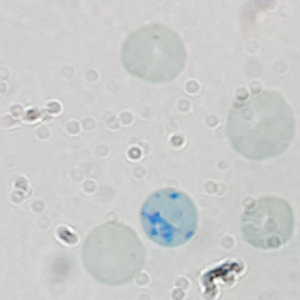aggregate reticulocyte: (138, 186, 201, 249)
erythrocyte: (224, 88, 299, 162), (237, 193, 297, 252)
punctate reticulocyte: (79, 220, 147, 288), (119, 23, 188, 84)
